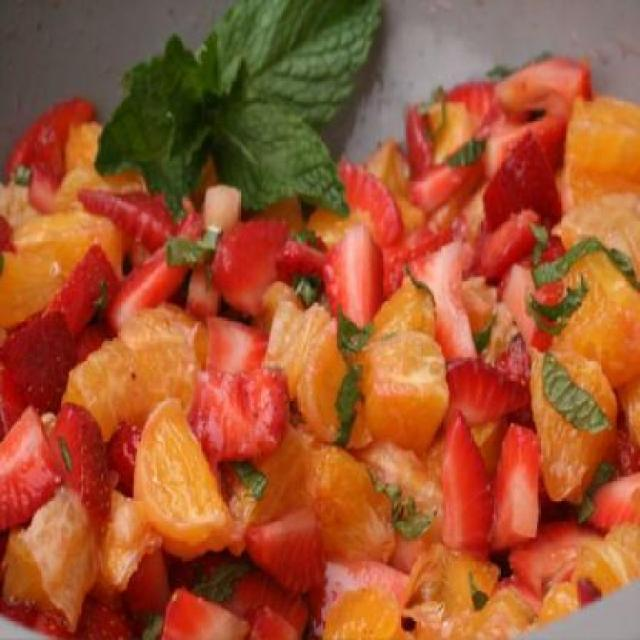Strawberry: (102, 211, 206, 340), (186, 360, 286, 466), (47, 398, 116, 547), (480, 125, 562, 241), (441, 400, 494, 565), (0, 401, 65, 534), (1, 304, 76, 419), (36, 238, 122, 338), (240, 504, 328, 600), (379, 206, 470, 296), (2, 94, 96, 178), (440, 354, 531, 440), (509, 517, 606, 597), (217, 214, 286, 322), (488, 420, 540, 558), (74, 183, 177, 251), (498, 259, 562, 367), (336, 155, 404, 254), (323, 218, 383, 330), (200, 556, 294, 627), (498, 50, 594, 118), (490, 320, 539, 437), (156, 580, 252, 638), (498, 233, 567, 310), (406, 143, 474, 220), (486, 114, 563, 182), (375, 222, 433, 306), (478, 208, 542, 280), (200, 312, 274, 374), (586, 464, 640, 534), (26, 123, 62, 220), (273, 226, 329, 288), (0, 595, 69, 640), (442, 80, 504, 128), (0, 362, 35, 446), (74, 590, 132, 638), (405, 100, 438, 178), (110, 422, 144, 496), (240, 596, 297, 638), (184, 254, 218, 320), (616, 416, 639, 476)
